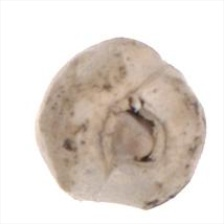L3: (95, 85, 170, 184)
L4: (36, 36, 207, 212)
